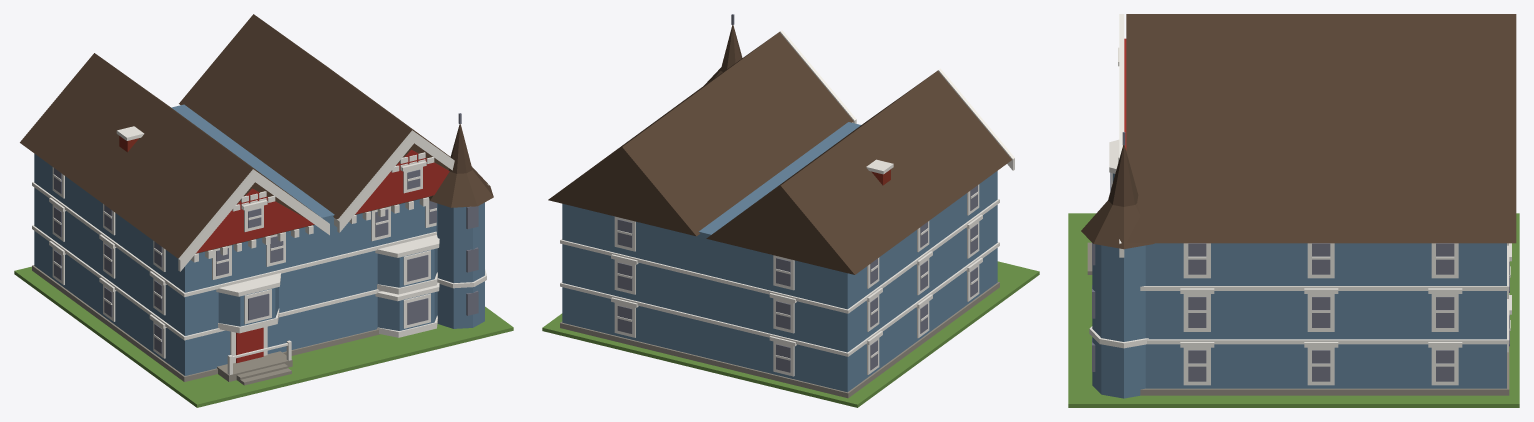
The model's file is house-2x2-3f-victorian-a.glb.
3 views of the same model, side by side, from view 1: azimuth 30°, elevation 25°; view 2: azimuth 150°, elevation 25°; view 3: azimuth 270°, elevation 25° (orthographic). The views are drawn at different scales.
Visible parts, largest first — view 1: house-2x2-3f-victorian-a; view 2: house-2x2-3f-victorian-a; view 3: house-2x2-3f-victorian-a.
Boxes of the visible parts, x1,y1,x2,y2 form: house-2x2-3f-victorian-a: [14, 14, 513, 407]; house-2x2-3f-victorian-a: [542, 14, 1039, 407]; house-2x2-3f-victorian-a: [1068, 14, 1519, 407].
Size of the model in its own units: 1.99 by 1.25 by 1.99.
1 material, 1 textured.
